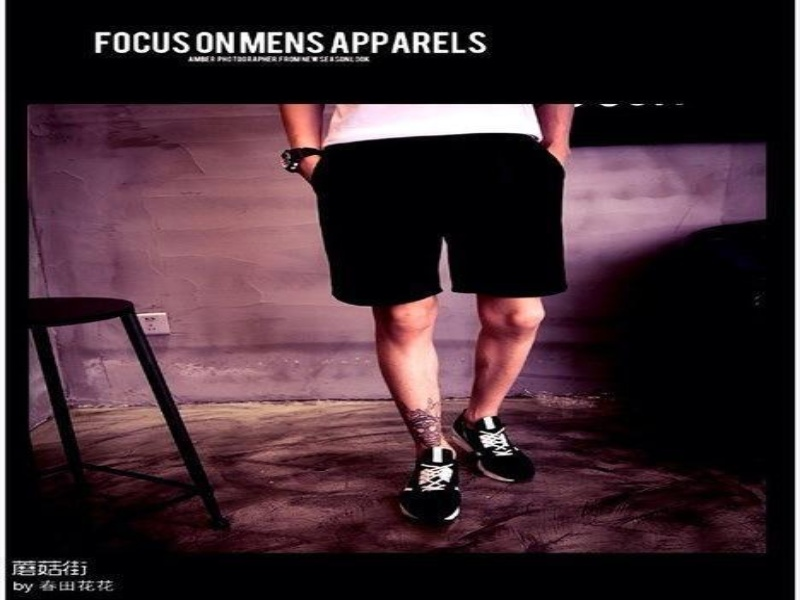short_sleeved_shirt: (313, 104, 554, 150)
shorts: (308, 128, 571, 309)
